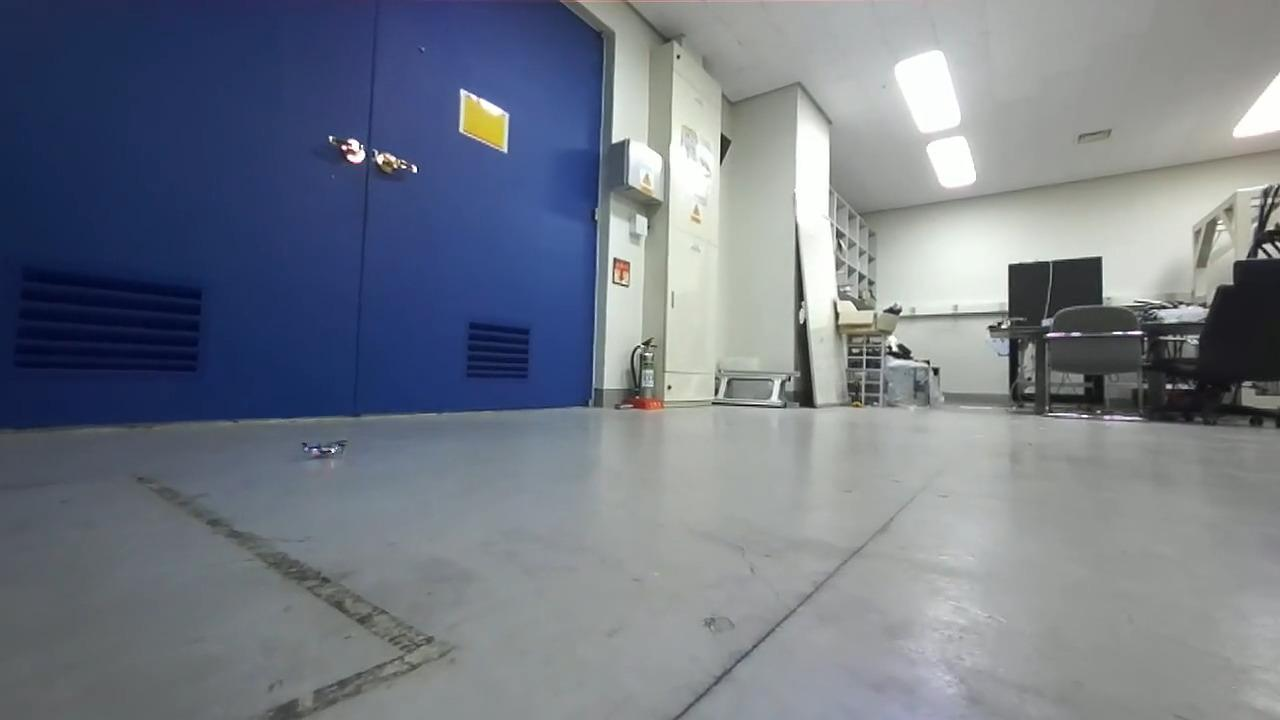crazyflie: (297, 435, 349, 465)
